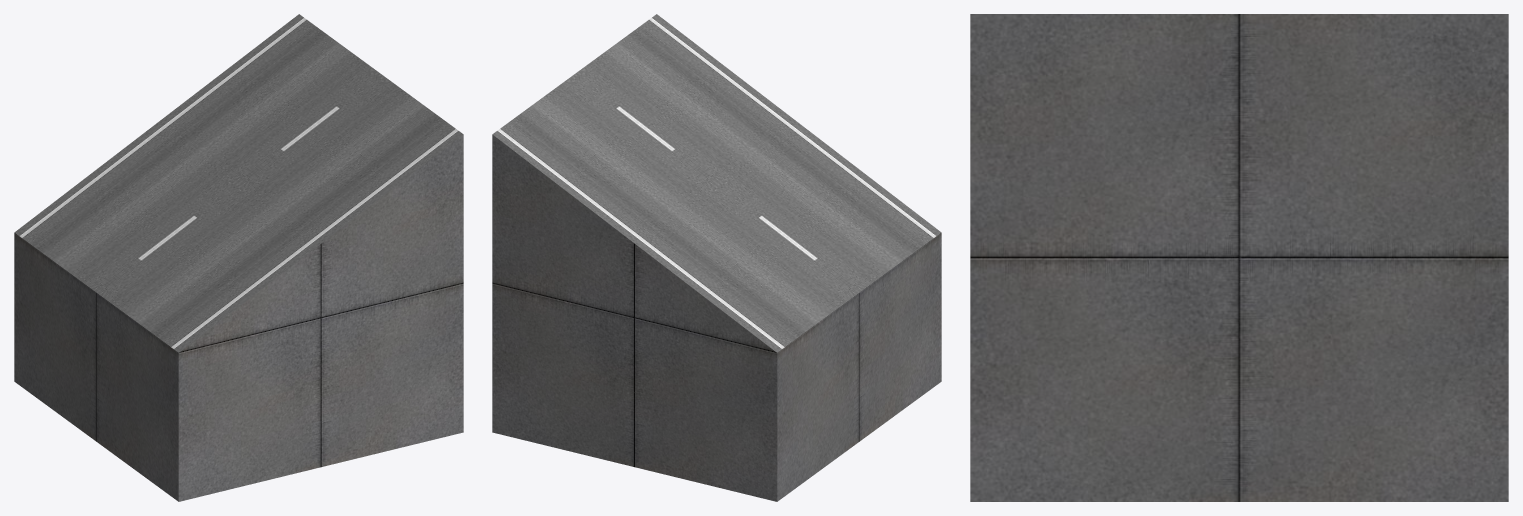
Rendered from uphill0.fbx.
3 renders of one model, left to right at view 1: azimuth 30°, elevation 25°; view 2: azimuth 150°, elevation 25°; view 3: azimuth 270°, elevation 25°, orthographic. The views are drawn at different scales.
Visible parts, largest first — view 1: 1,1,1; view 2: 1,1,1; view 3: 1,1,1.
Part boxes in pixels (box(x1,y1,x2,y2)): 1,1,1: box(14, 14, 463, 501); 1,1,1: box(492, 14, 941, 501); 1,1,1: box(970, 14, 1508, 501).
Size of the model in its own units: 394 by 394 by 394.
2 materials, 2 textured.
